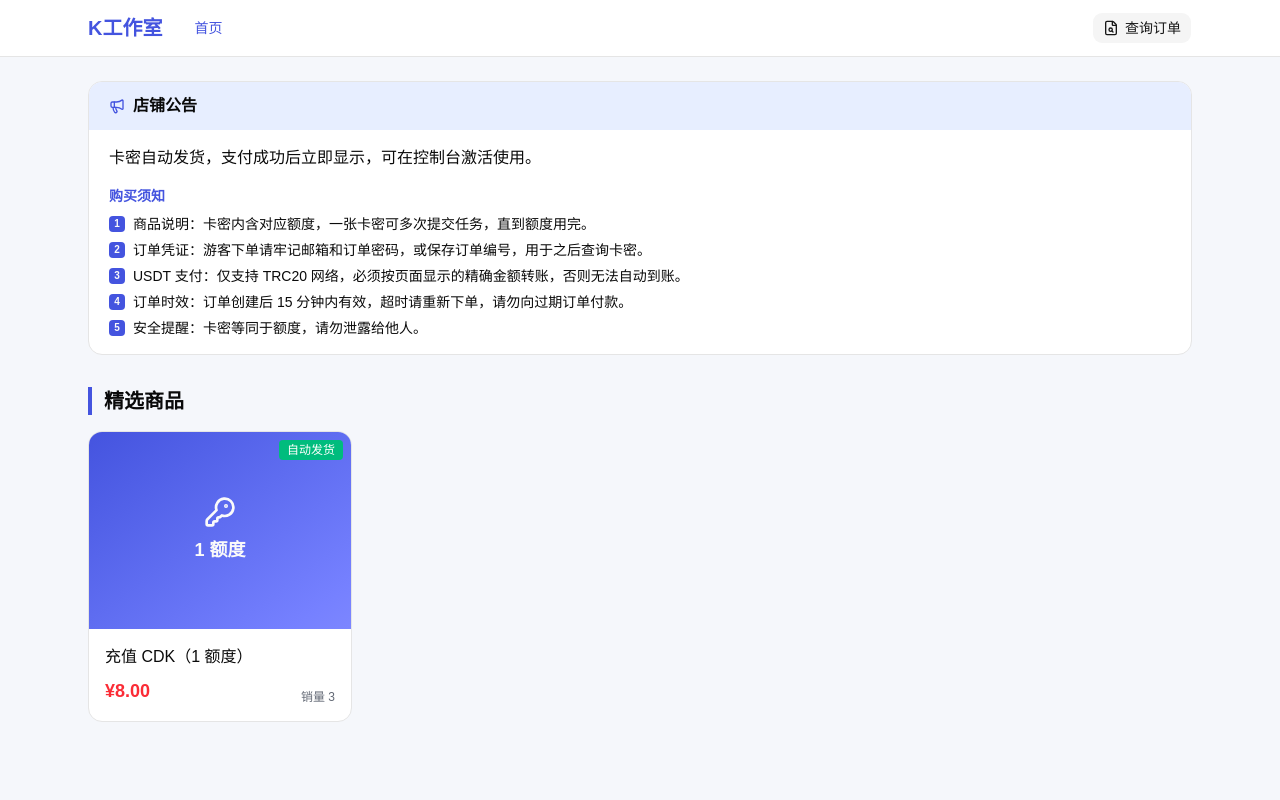
Test: buys as a guest, pays and receives the keys
Click the text "充值 CDK（1 额度）" at (179, 656), box [105,648,253,664]
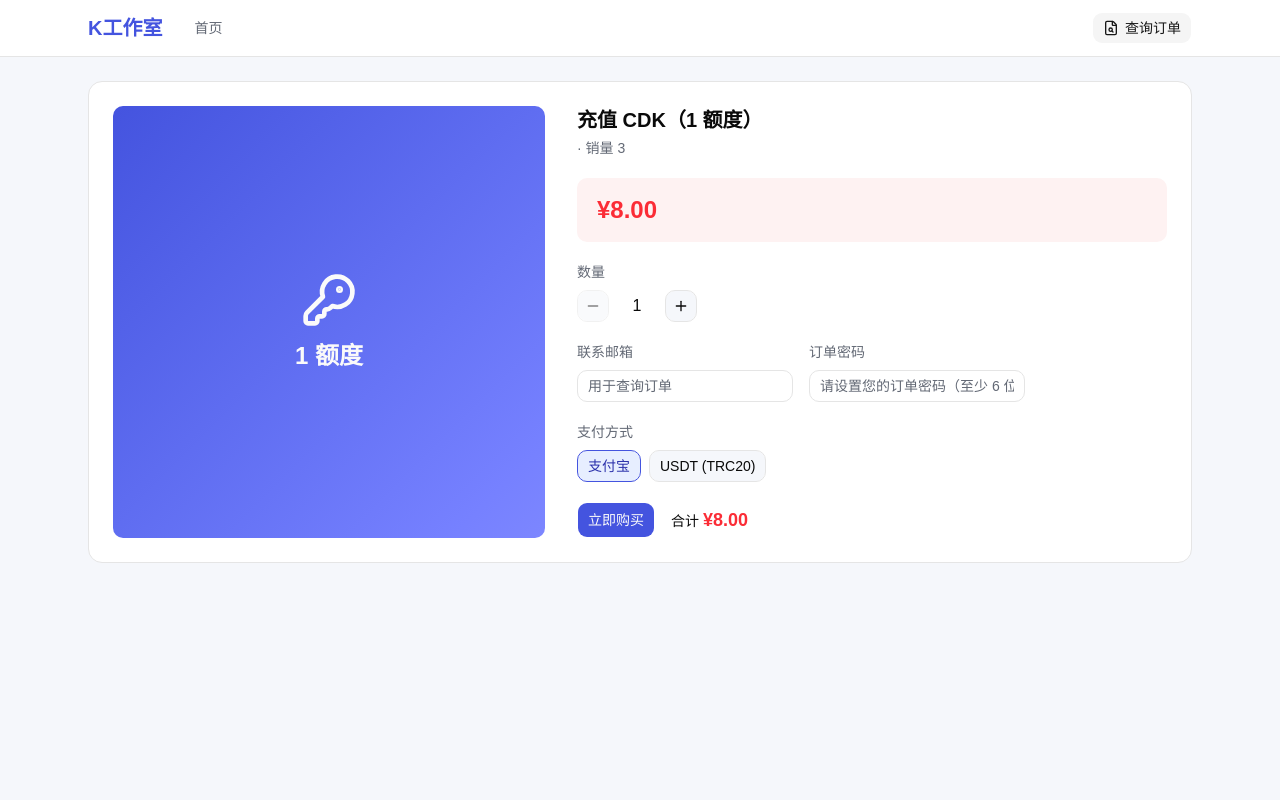
Click the button named "增加数量" at (681, 306), box [665,290,697,322]
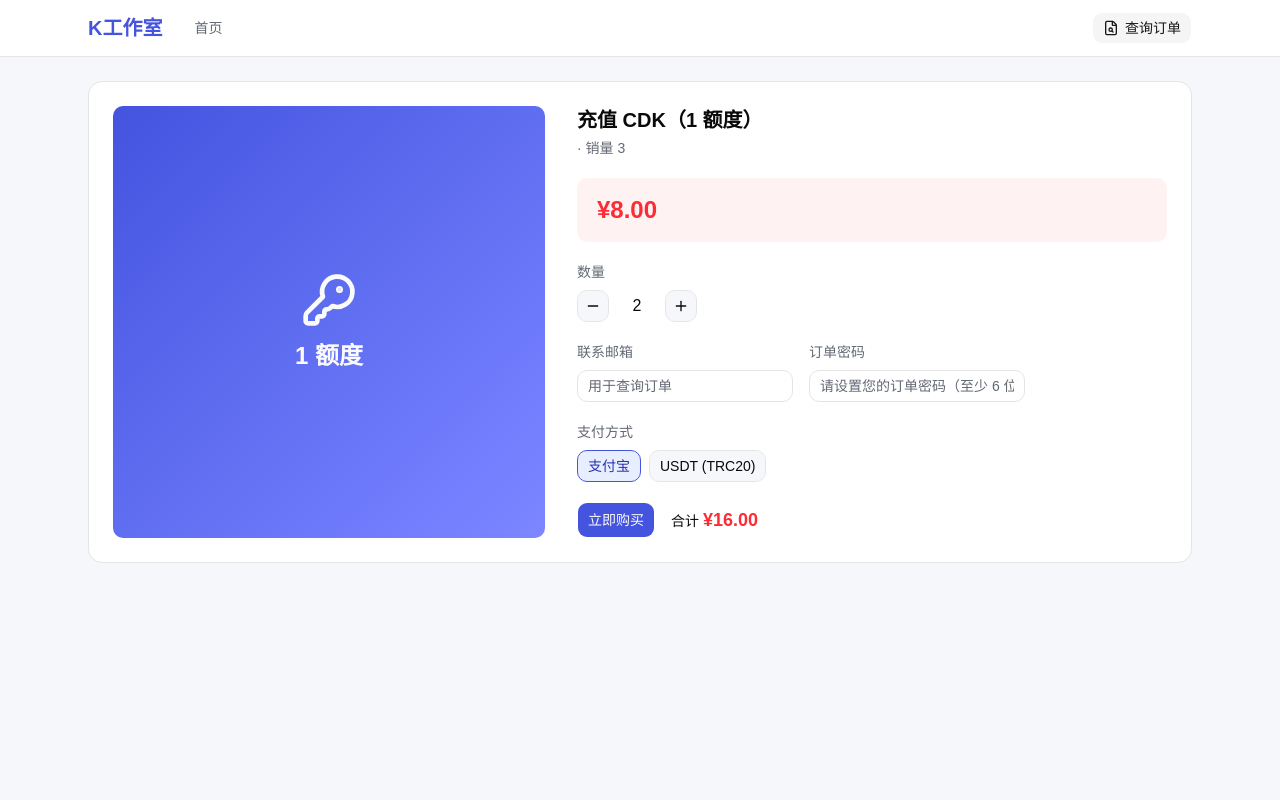
Result: the text "¥16.00" is shown at [703,510,758,530]
Type "buyer@example.com" into the field labelled "联系邮箱" at (685, 386), box [577,370,793,402]
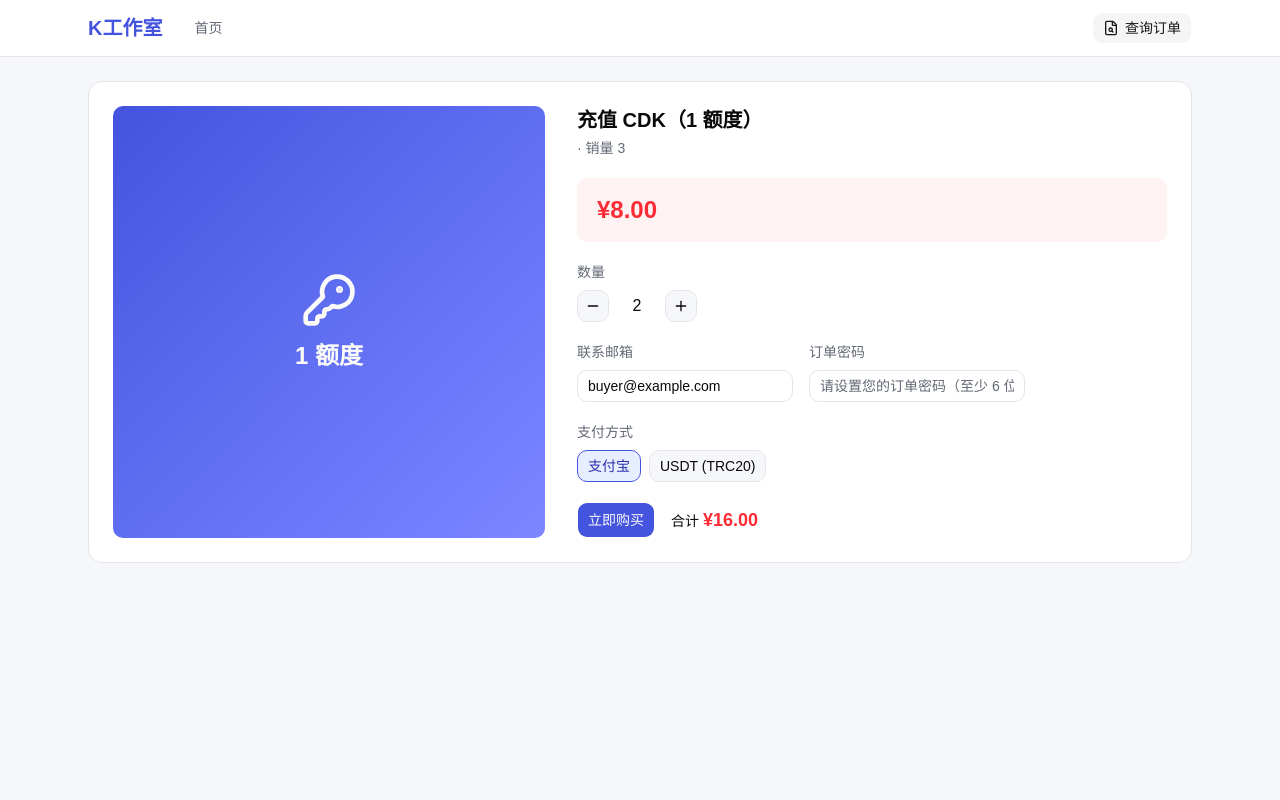
Type "order-pass" into the password field labelled "订单密码" at (917, 386), box [809,370,1025,402]
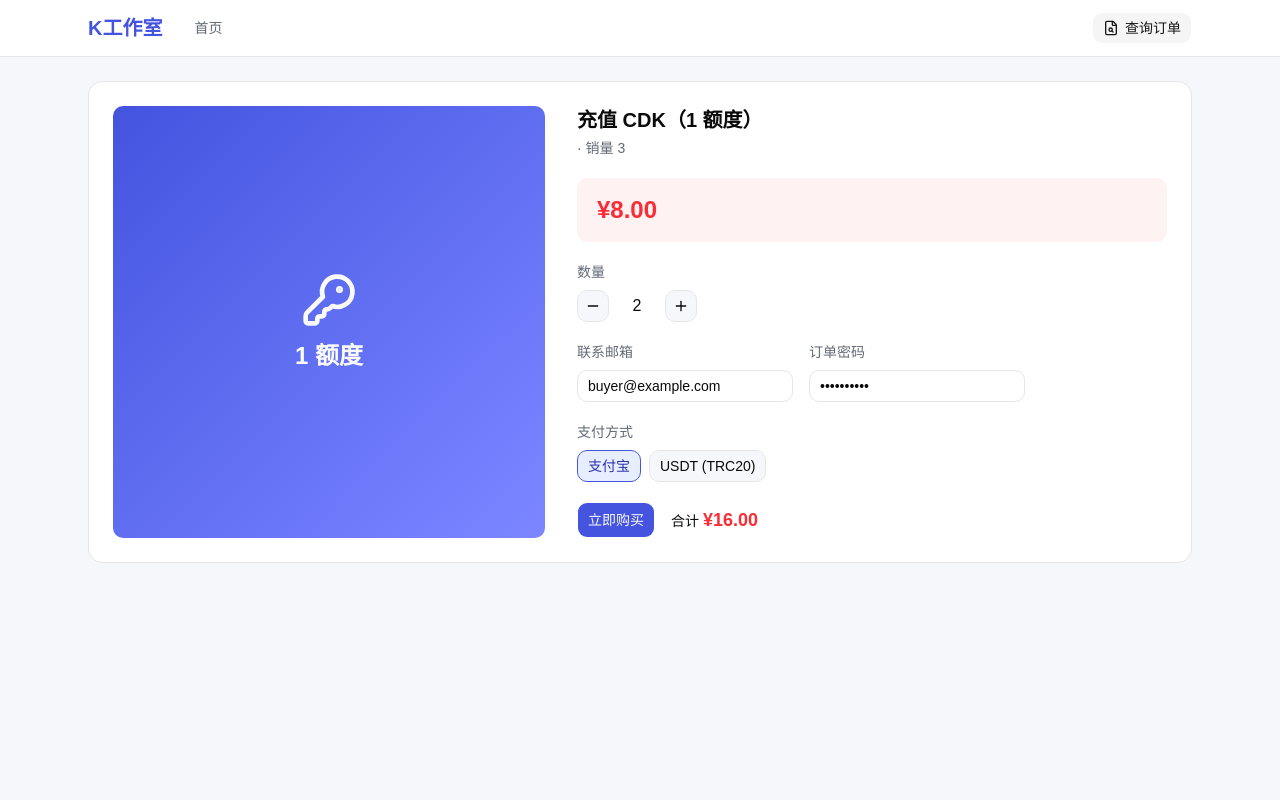
Click the button "立即购买" at (616, 520), box [577,502,655,538]
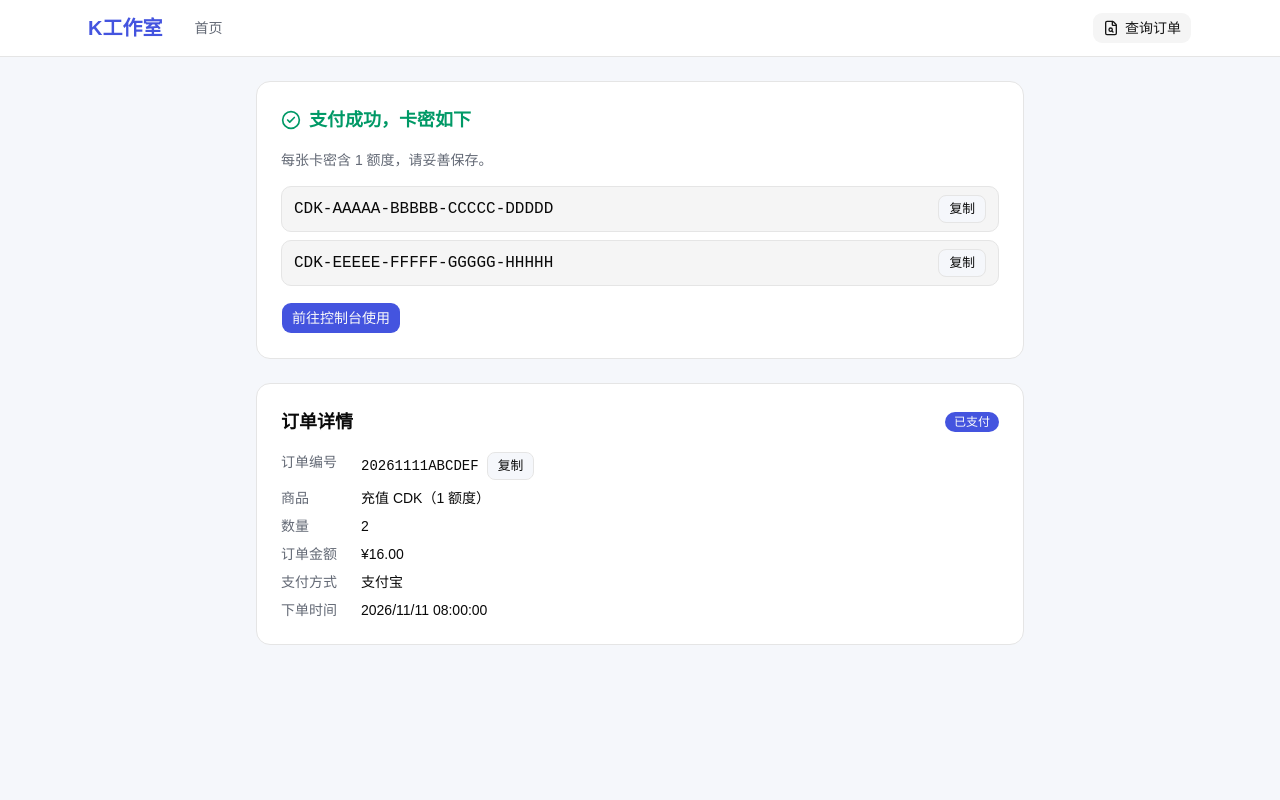
Result: the text "CDK-AAAAA-BBBBB-CCCCC-DDDDD" is shown at [294,197,553,221]
Result: the icon "已支付" is shown at [945,412,999,432]
